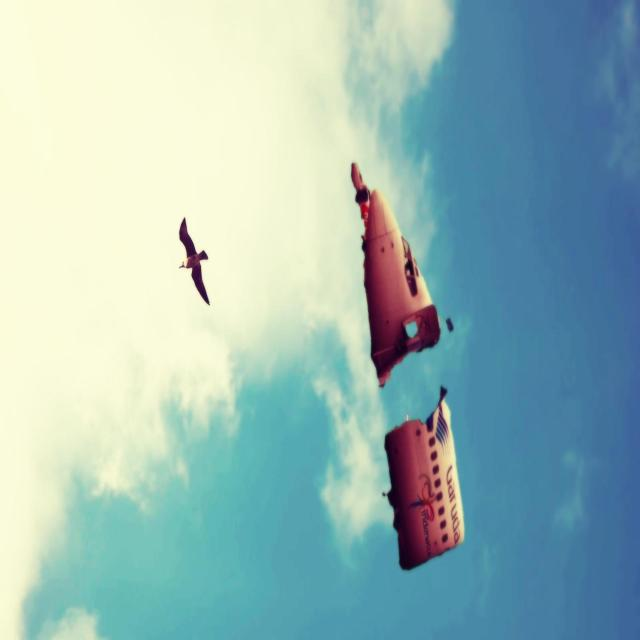airplane: (350, 161, 465, 574)
